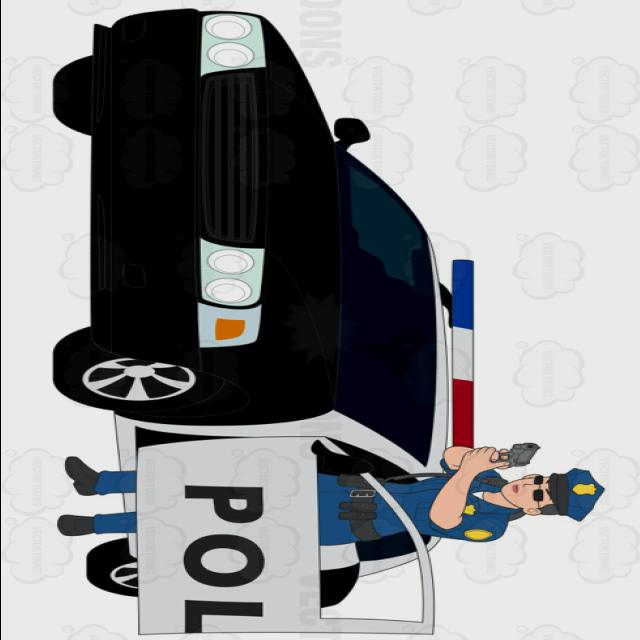handgun: (480, 437, 546, 473)
